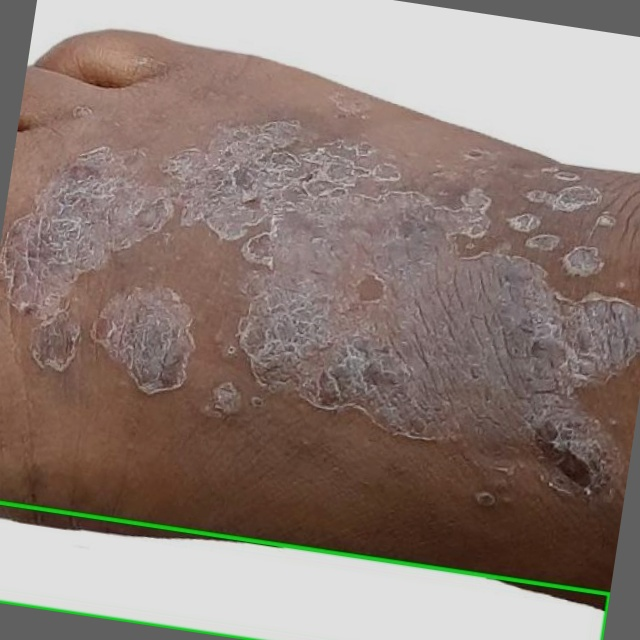Contact Dermatitis: (0, 502, 609, 639)
